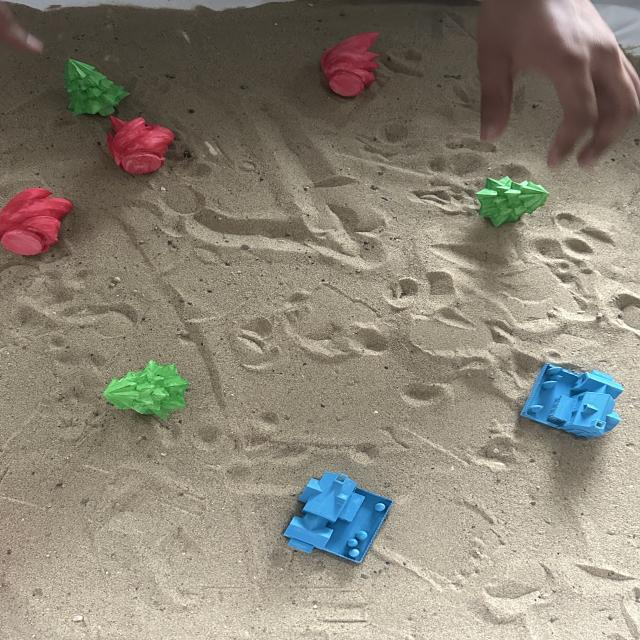fire: (1, 186, 74, 257), (104, 114, 176, 175), (318, 30, 382, 98)
house: (281, 470, 394, 564), (518, 362, 624, 439)
tree: (102, 358, 190, 421), (62, 57, 132, 121), (474, 174, 550, 228)
